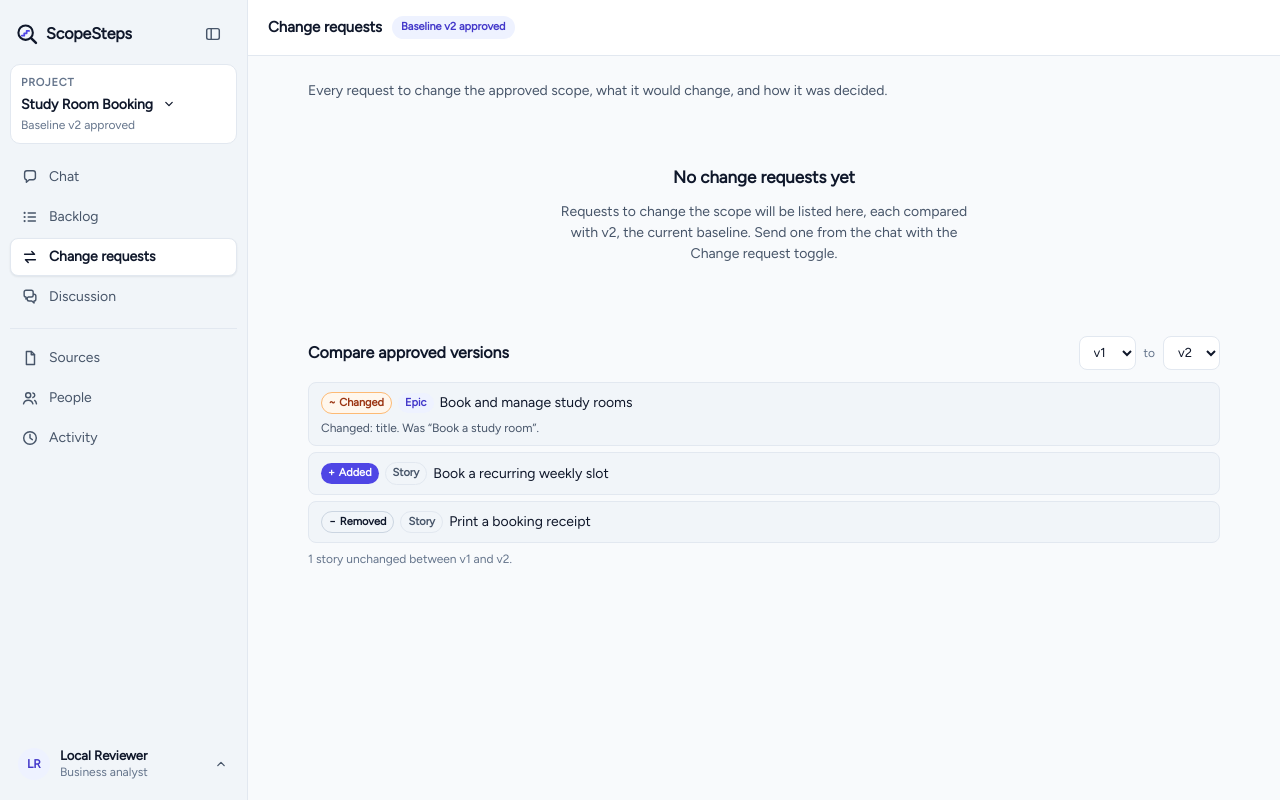
Comparing approved versions › asks for two different versions instead of comparing one with itself
Expected: the list named "Changes from v1 to v2" is shown, [308,382,1220,543]
Select "v2" in the dropdown named "From version" at (1107, 352), box [1078,336,1136,370]
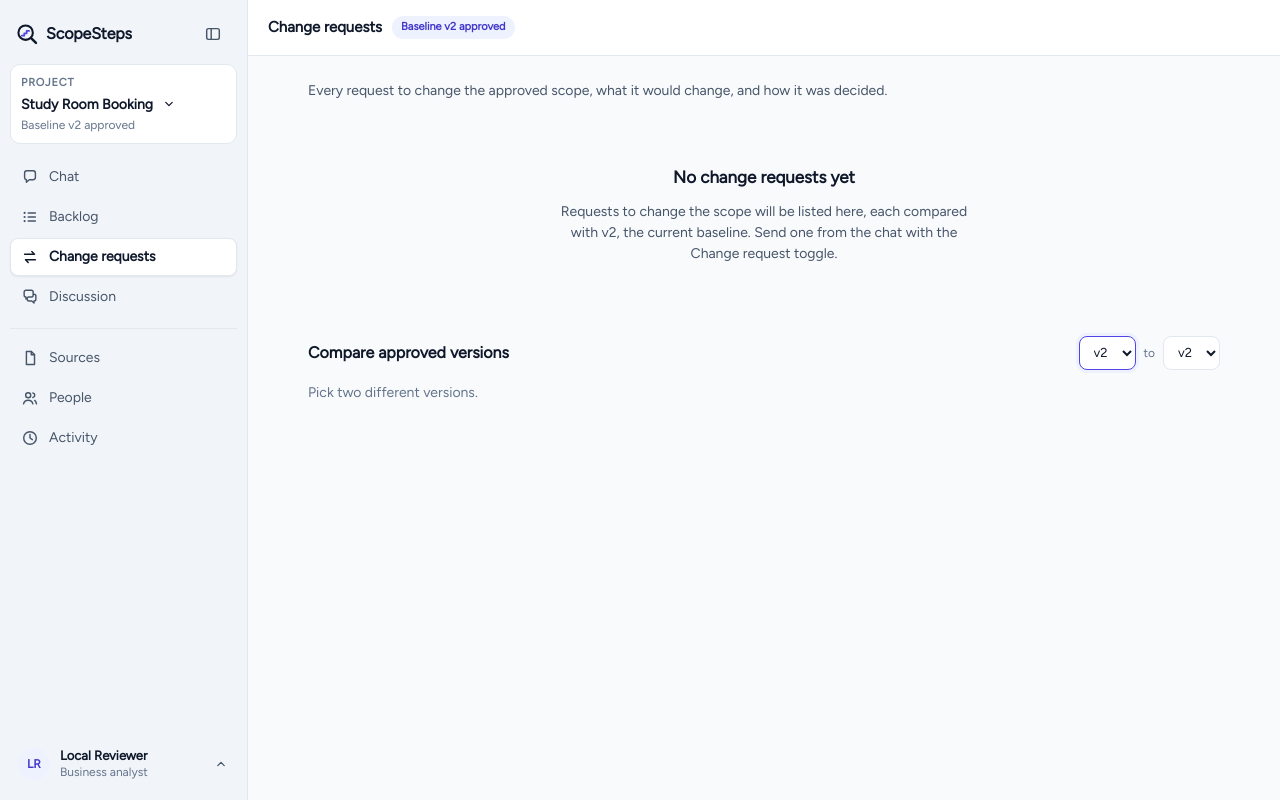
Now the message reads "Pick two different versions.", box [308,384,478,400]
